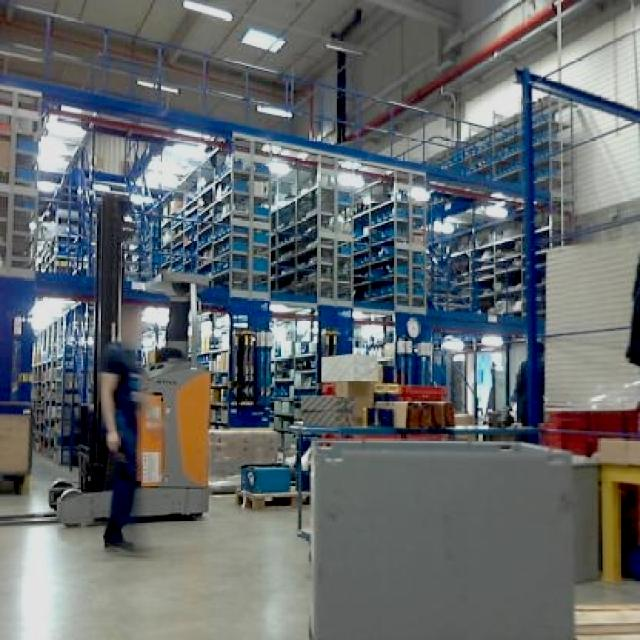pallets: (311, 440, 569, 637), (131, 365, 208, 515), (598, 437, 637, 580), (0, 400, 28, 491), (55, 491, 108, 522)
